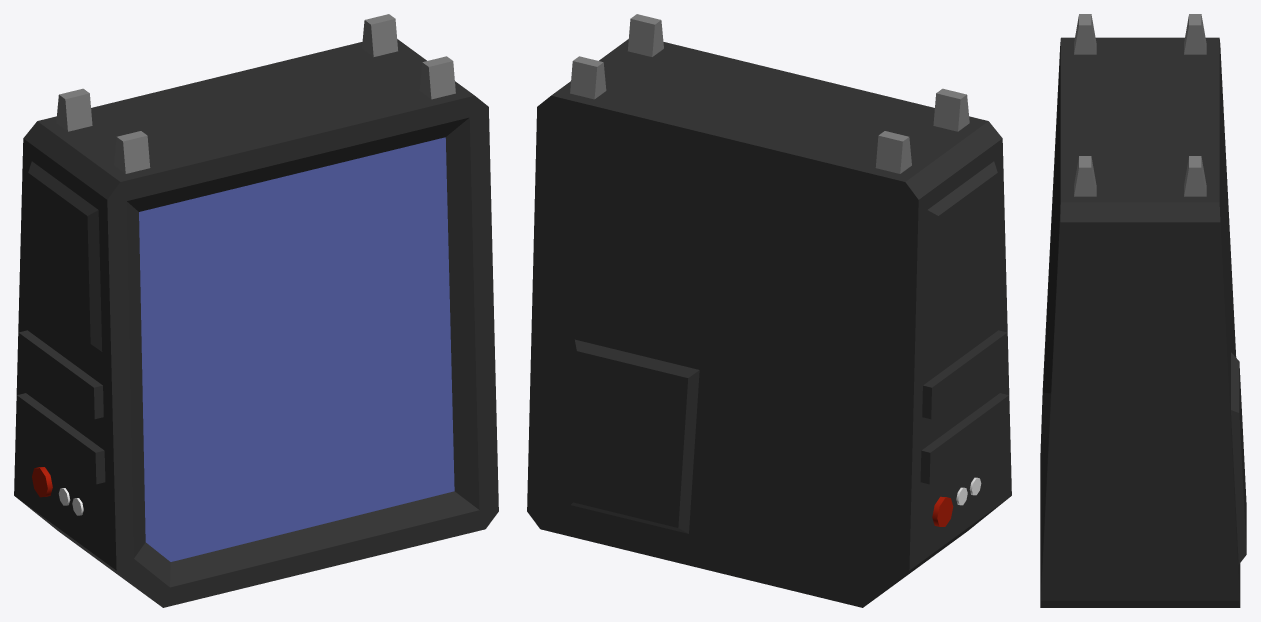
The model's file is Prop_Desktop.FBX.
3 renders of one model, left to right at view 1: azimuth 30°, elevation 25°; view 2: azimuth 150°, elevation 25°; view 3: azimuth 270°, elevation 25°, orthographic. The views are drawn at different scales.
Visible parts, largest first — view 1: PC; view 2: PC; view 3: PC.
Part boxes in pixels (bbox=[...]): PC: bbox=[14, 14, 498, 607]; PC: bbox=[527, 14, 1011, 607]; PC: bbox=[1040, 14, 1246, 607].
Bounding box in the file's own units: 43 × 48 × 20.64.
1 material, 1 textured.
